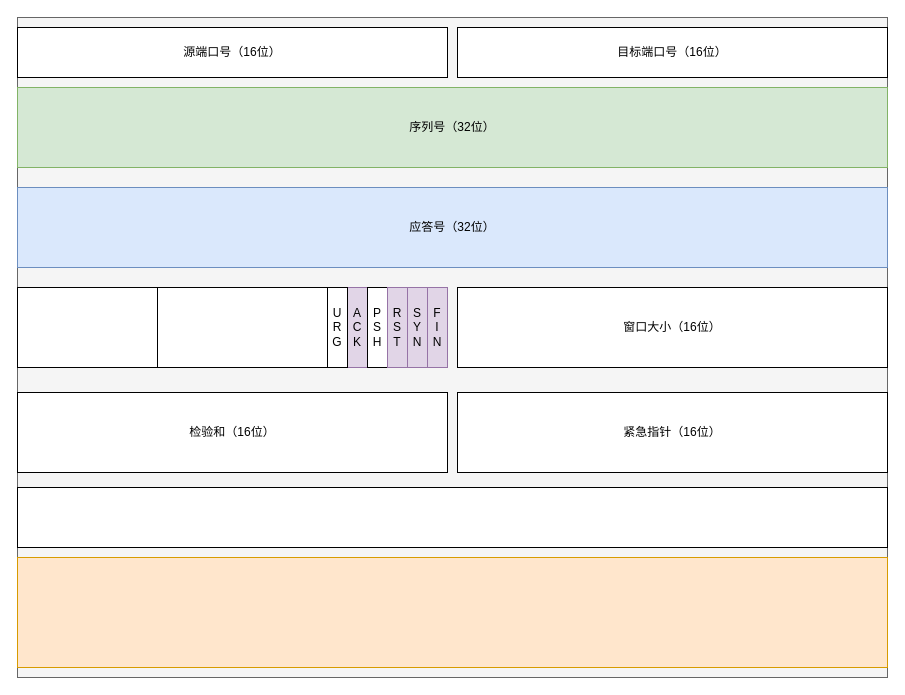
Some shapes in this 905 by 695 pixel diagram are drawn without their labels. The box of each missing label's shape, as (x1, y1, x2, y2) in pixels:
保留（6位）: (156, 286, 328, 368)
数据: (16, 556, 888, 668)
选项（长度可变）: (16, 486, 888, 548)
首部长度（4位）: (16, 286, 158, 368)
